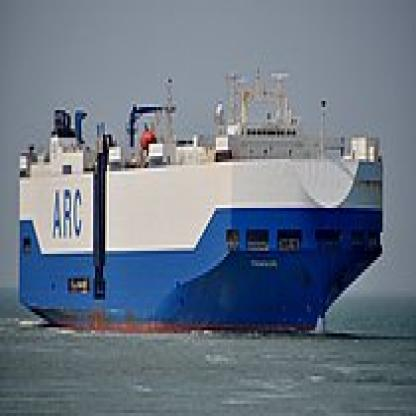Tanker: (9, 122, 374, 342)
